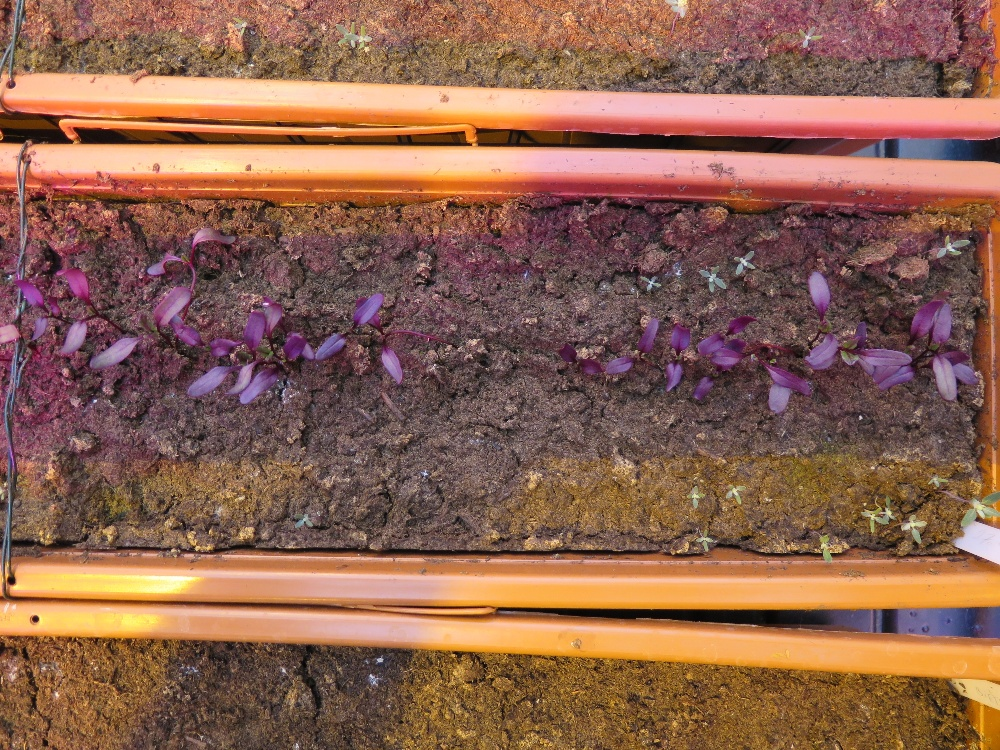crop: (130, 254, 266, 424), (207, 274, 334, 411), (273, 276, 421, 383), (39, 261, 168, 374), (873, 279, 987, 404), (791, 274, 902, 395), (632, 315, 750, 397), (734, 311, 825, 413), (1, 265, 66, 356), (559, 324, 634, 397)
weed: (939, 472, 1000, 529), (687, 254, 737, 304), (843, 495, 896, 542), (316, 15, 393, 47), (898, 504, 941, 554), (802, 526, 850, 563), (923, 233, 966, 272), (721, 474, 757, 520), (787, 17, 827, 56), (730, 249, 768, 288), (689, 522, 730, 556), (630, 270, 666, 292), (677, 486, 712, 508)
